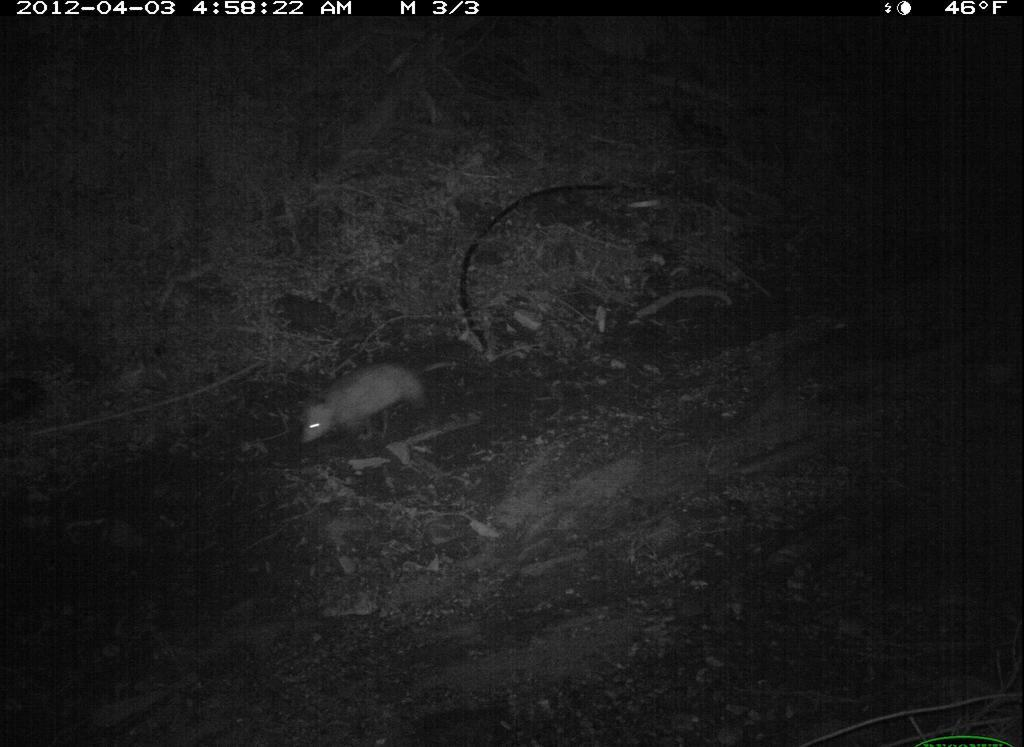opossum: (285, 355, 437, 447)
